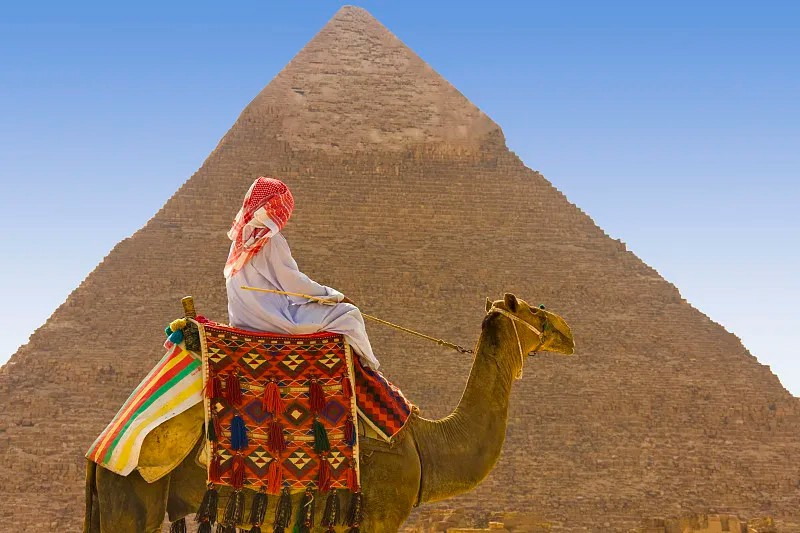Pyramid: (1, 6, 800, 533)
